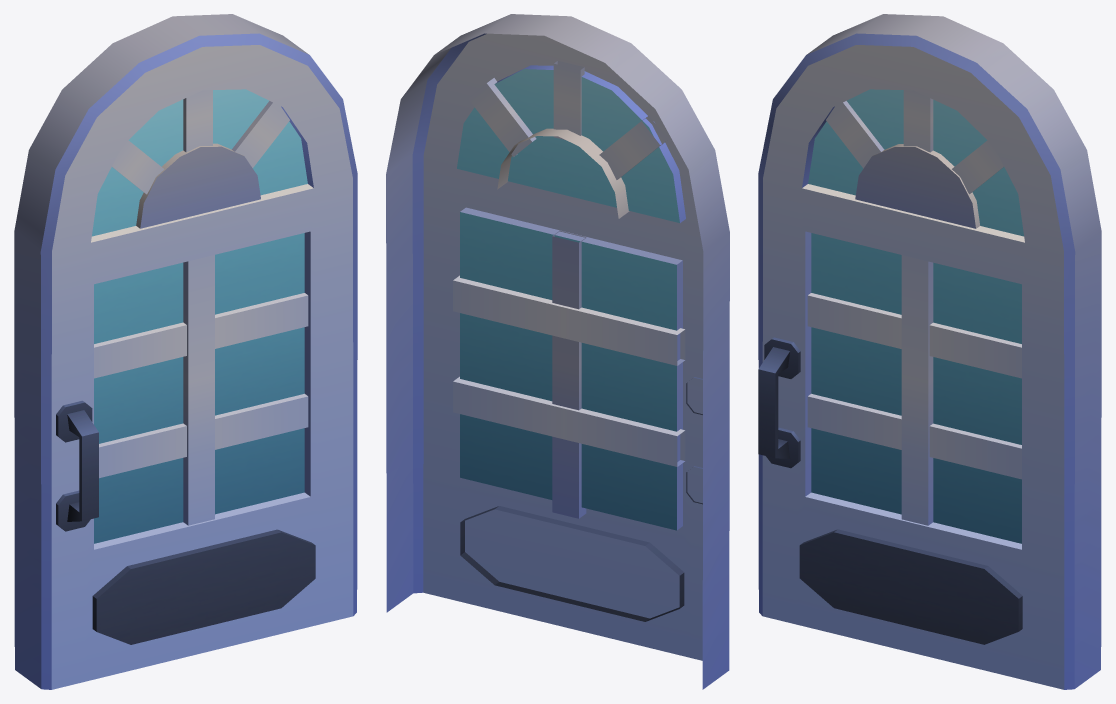
Rendered from Door_07B.fbx.
3 renders of one model, left to right at view 1: azimuth 30°, elevation 25°; view 2: azimuth 150°, elevation 25°; view 3: azimuth 330°, elevation 25°, orthographic.
Visible parts, largest first — view 1: Door_07B; view 2: Door_07B; view 3: Door_07B.
Part boxes in pixels (bbox=[...]): Door_07B: bbox=[14, 14, 357, 689]; Door_07B: bbox=[386, 14, 729, 689]; Door_07B: bbox=[758, 14, 1101, 689].
Size of the model in its own units: 147 by 272 by 37.83.
Materials: 3 (3 with a texture image).
